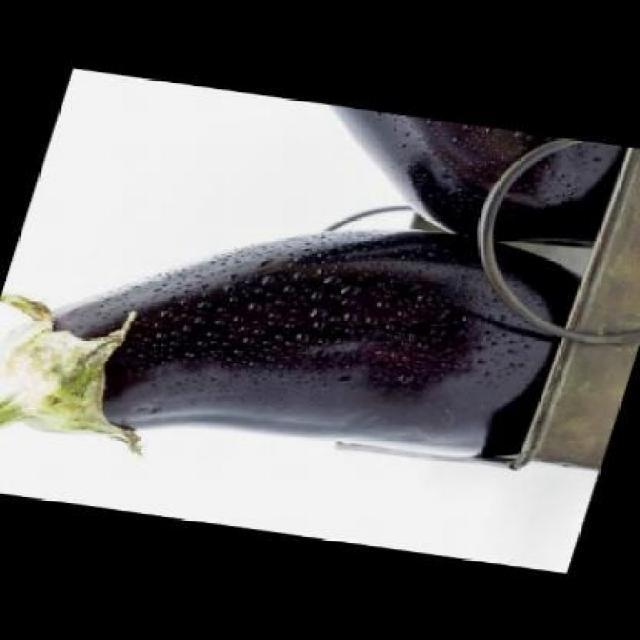eggplant: (1, 171, 589, 472), (292, 102, 630, 253)
